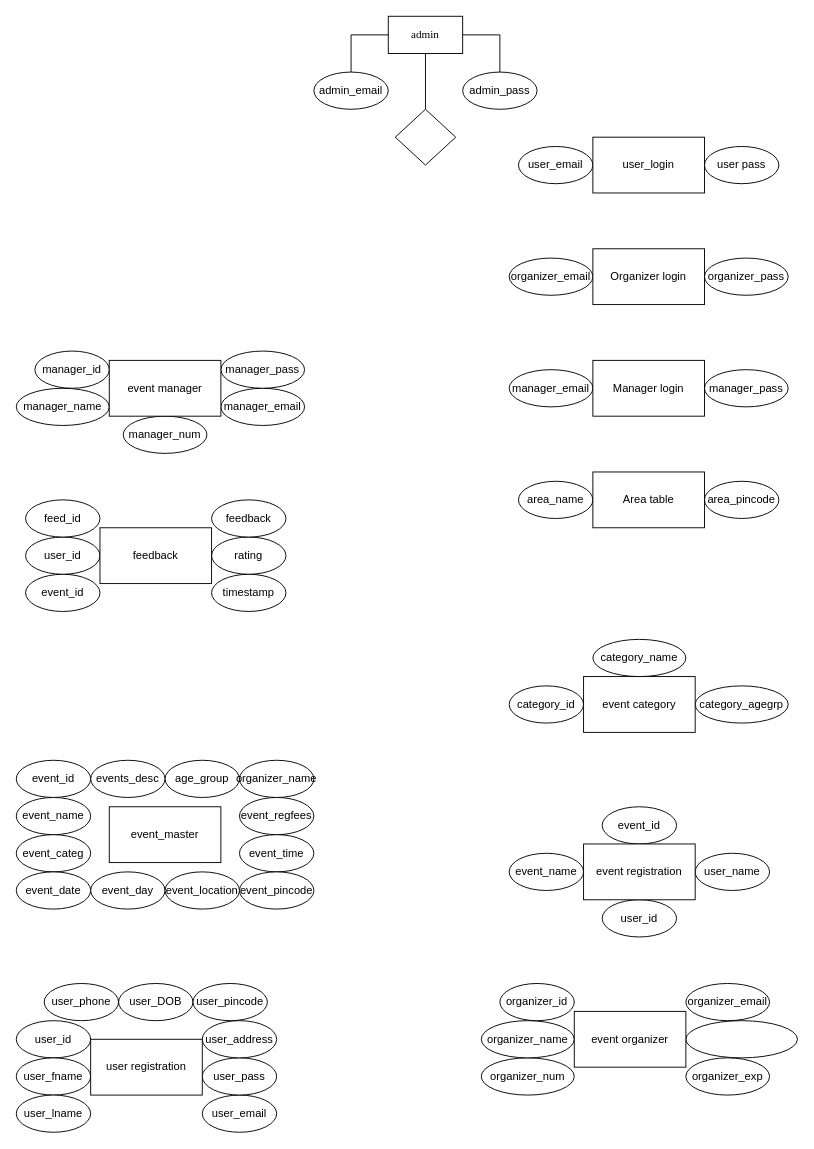
Image size: 814x1149. Some labels were removed from this diagram. The centre of each missing label's shape, as x and y in pixels:
"manage" belongs at point (425, 136).
"organizer_speciality" belongs at point (741, 1039).
